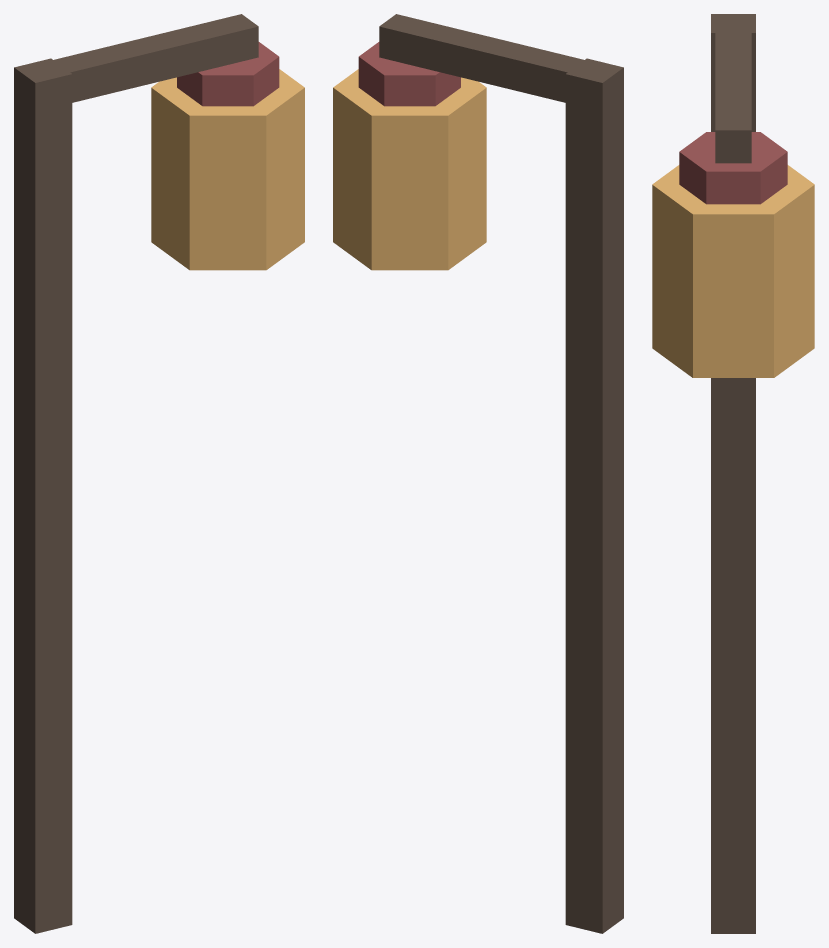
Rendered from lantern_pole.glb.
3 renders of one model, left to right at view 1: azimuth 30°, elevation 25°; view 2: azimuth 150°, elevation 25°; view 3: azimuth 270°, elevation 25°, orthographic. The views are drawn at different scales.
Parts seen in each view (by area): view 1: pole, lantern, arm, detail_cap; view 2: pole, lantern, arm, detail_cap; view 3: lantern, pole, detail_cap, arm.
Part boxes in pixels (x1,y1,x2,y2): pole: [14, 58, 72, 933]; lantern: [151, 69, 304, 270]; arm: [53, 14, 258, 102]; detail_cap: [177, 42, 279, 106]; pole: [565, 58, 623, 933]; lantern: [333, 69, 486, 270]; arm: [379, 14, 584, 102]; detail_cap: [358, 42, 460, 106]; lantern: [652, 165, 814, 377]; pole: [711, 14, 755, 933]; detail_cap: [679, 132, 787, 204]; arm: [715, 33, 751, 163].
Size of the model in its own units: 0.3529 by 1.1 by 0.18.
